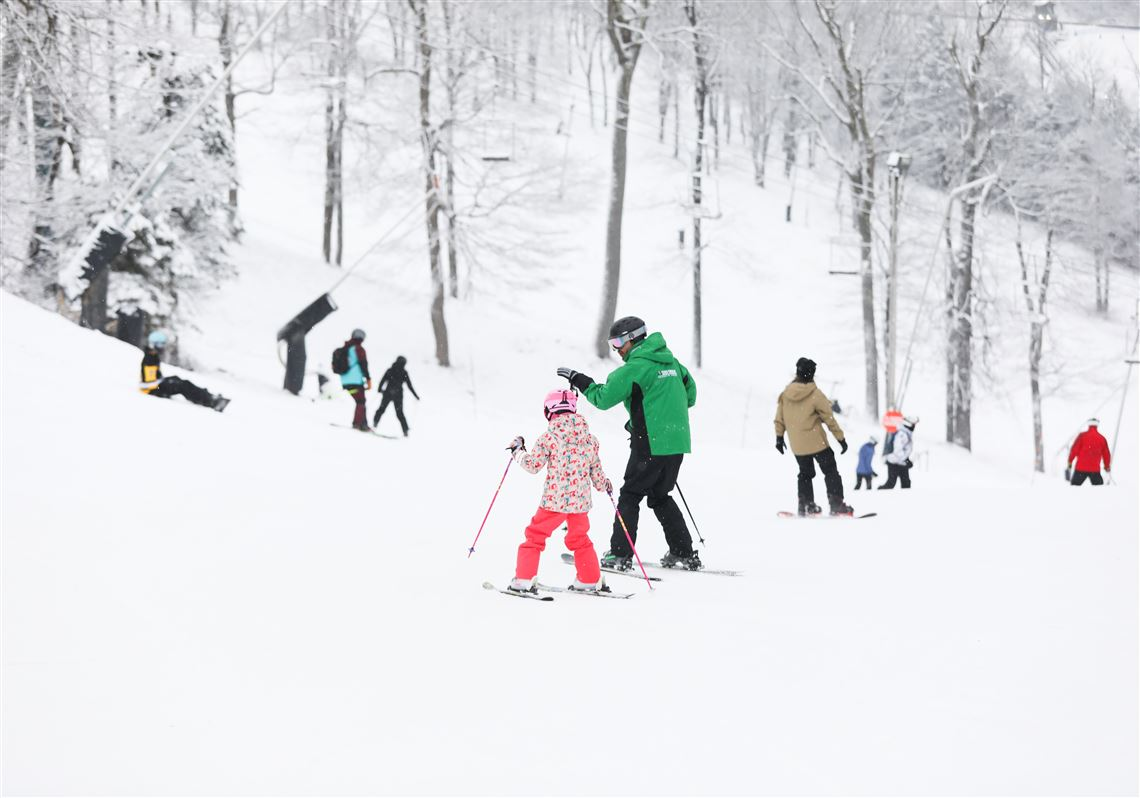skier: (558, 314, 771, 601), (486, 374, 648, 632)
snowboarder: (756, 349, 889, 534), (125, 319, 234, 427)
